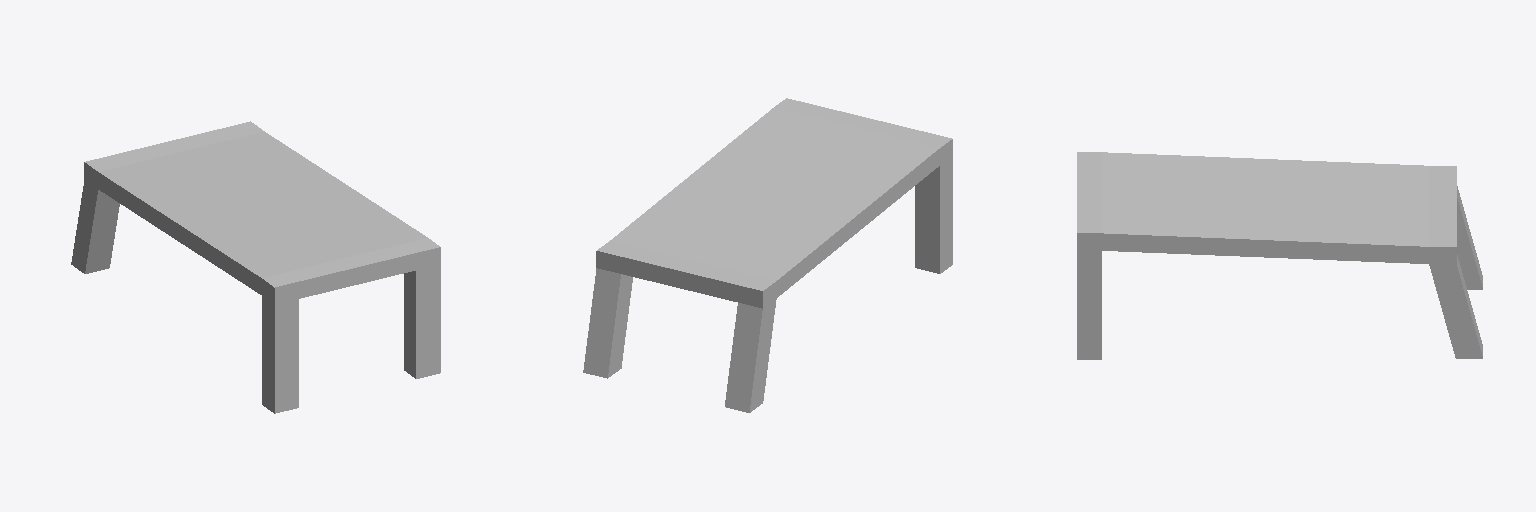
File: scheve tafel.obj
3 views of the same model, side by side, from view 1: azimuth 30°, elevation 25°; view 2: azimuth 150°, elevation 25°; view 3: azimuth 270°, elevation 25° (orthographic).
Parts seen in each view (by area): view 1: Box002; view 2: Box002; view 3: Box002.
Boxes of the visible parts, box(x1,y1,x2,y2) form: Box002: box(71, 121, 440, 413); Box002: box(583, 98, 952, 412); Box002: box(1077, 152, 1482, 359).
Size of the model in its own units: 1.5 by 1.09 by 3.18.